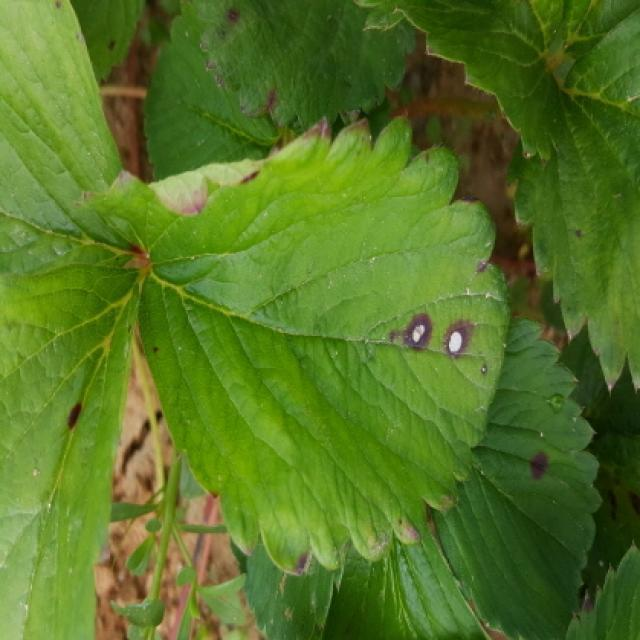Leaf Spot: (136, 111, 511, 577), (0, 239, 150, 638), (427, 319, 605, 638), (501, 6, 638, 396), (197, 0, 420, 133), (565, 541, 638, 638), (73, 0, 150, 84)
